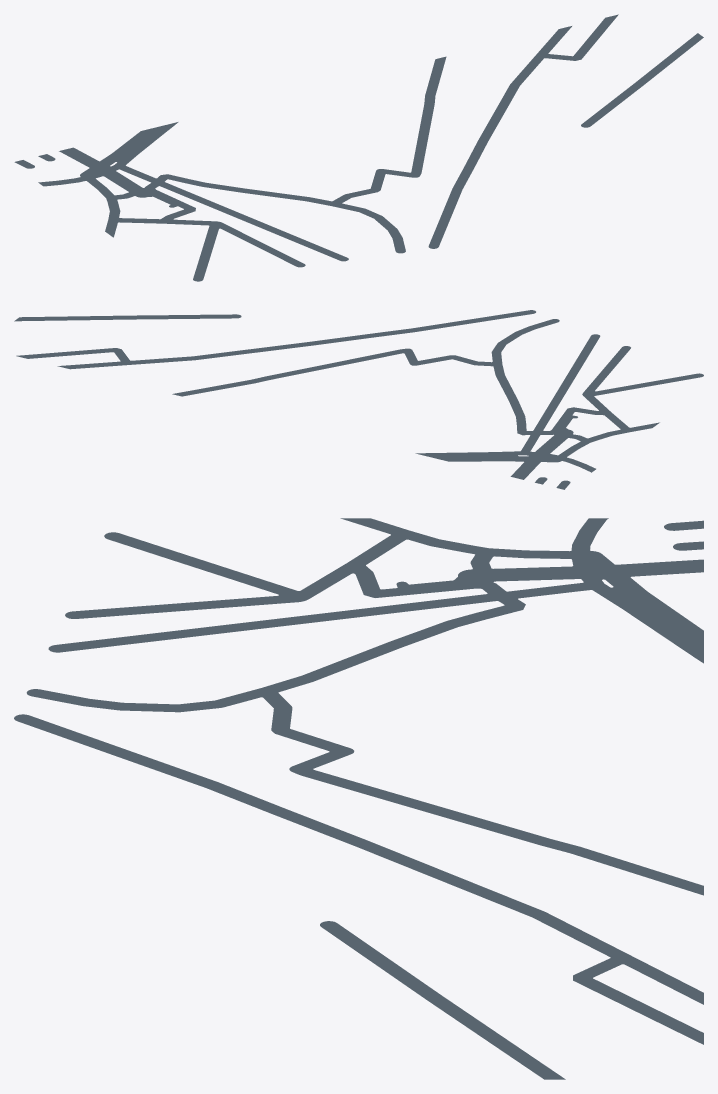
The model's file is SM_MPR_Env_Far_S_Roads.fbx.
3 renders of one model, top to bottom at view 1: azimuth 30°, elevation 25°; view 2: azimuth 150°, elevation 25°; view 3: azimuth 270°, elevation 25°, orthographic. The views are drawn at different scales.
Visible parts, largest first — view 1: SM_MPR_Env_Far_S_Roads; view 2: SM_MPR_Env_Far_S_Roads; view 3: SM_MPR_Env_Far_S_Roads.
Boxes of the visible parts, bbox=[...] form: SM_MPR_Env_Far_S_Roads: bbox=[14, 14, 703, 281]; SM_MPR_Env_Far_S_Roads: bbox=[14, 310, 703, 489]; SM_MPR_Env_Far_S_Roads: bbox=[14, 518, 703, 1079].
Size of the model in its own units: 57500 by 29855 by 0.
